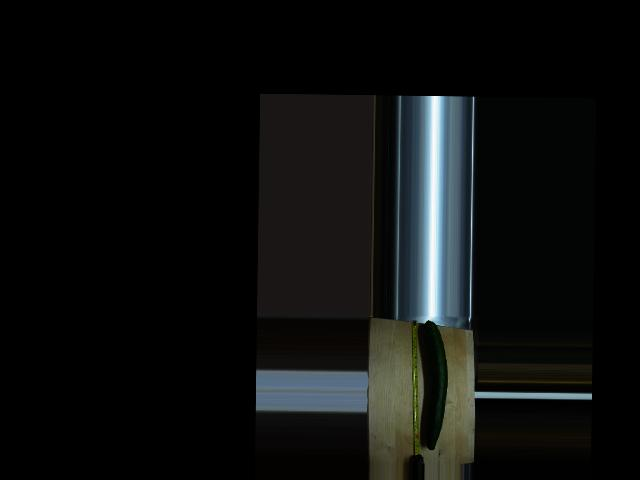cucumber: (421, 320, 448, 450)
